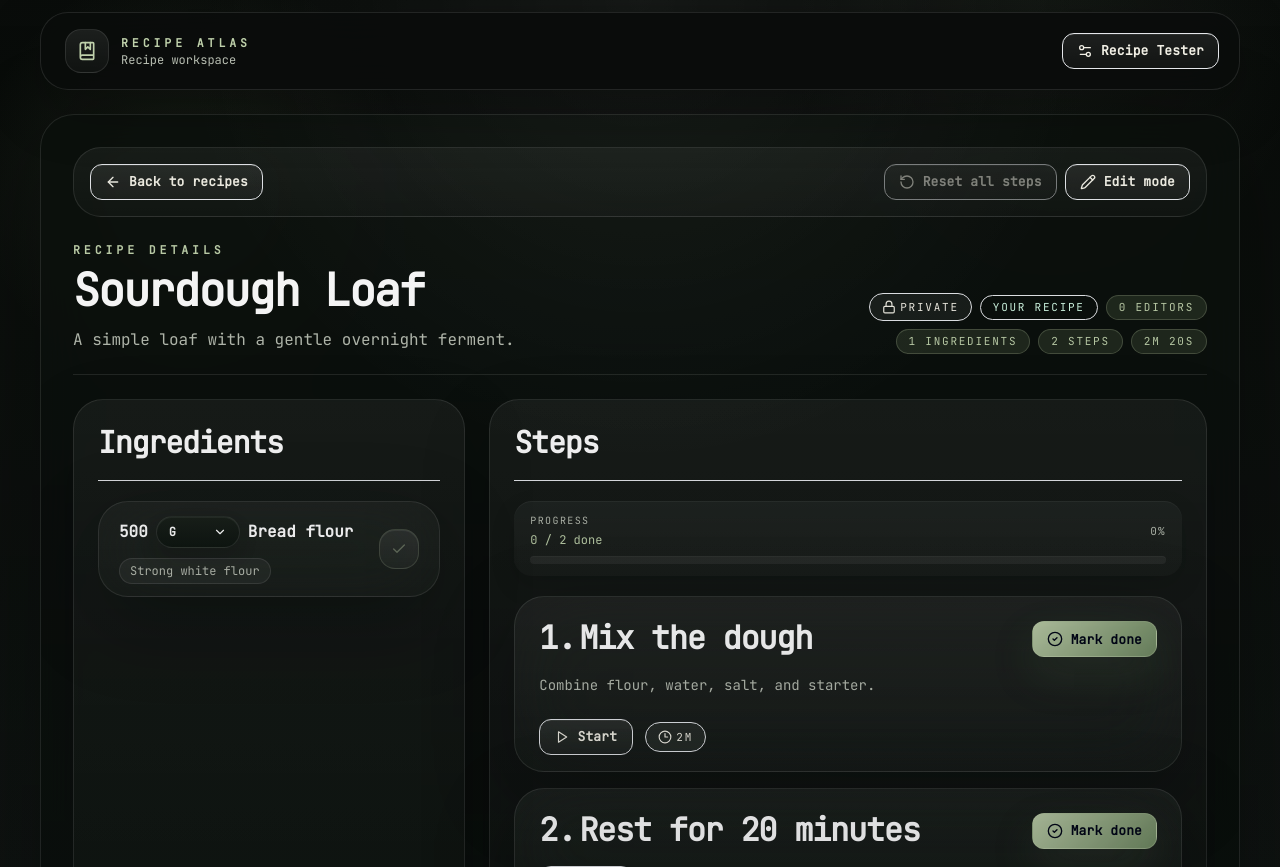
Test: RecipeDetailPage › shows steps and records completion
This screenshot has width=1280, height=867.
Expected: the heading "Sourdough Loaf" is shown, [73,260,424,319]
Expected: the text "Bread flour" is shown, [248,516,353,548]
Click the button "Mark done" in the row of "Mix the dough". click: (1094, 639)
box: [1032,621,1157,657]
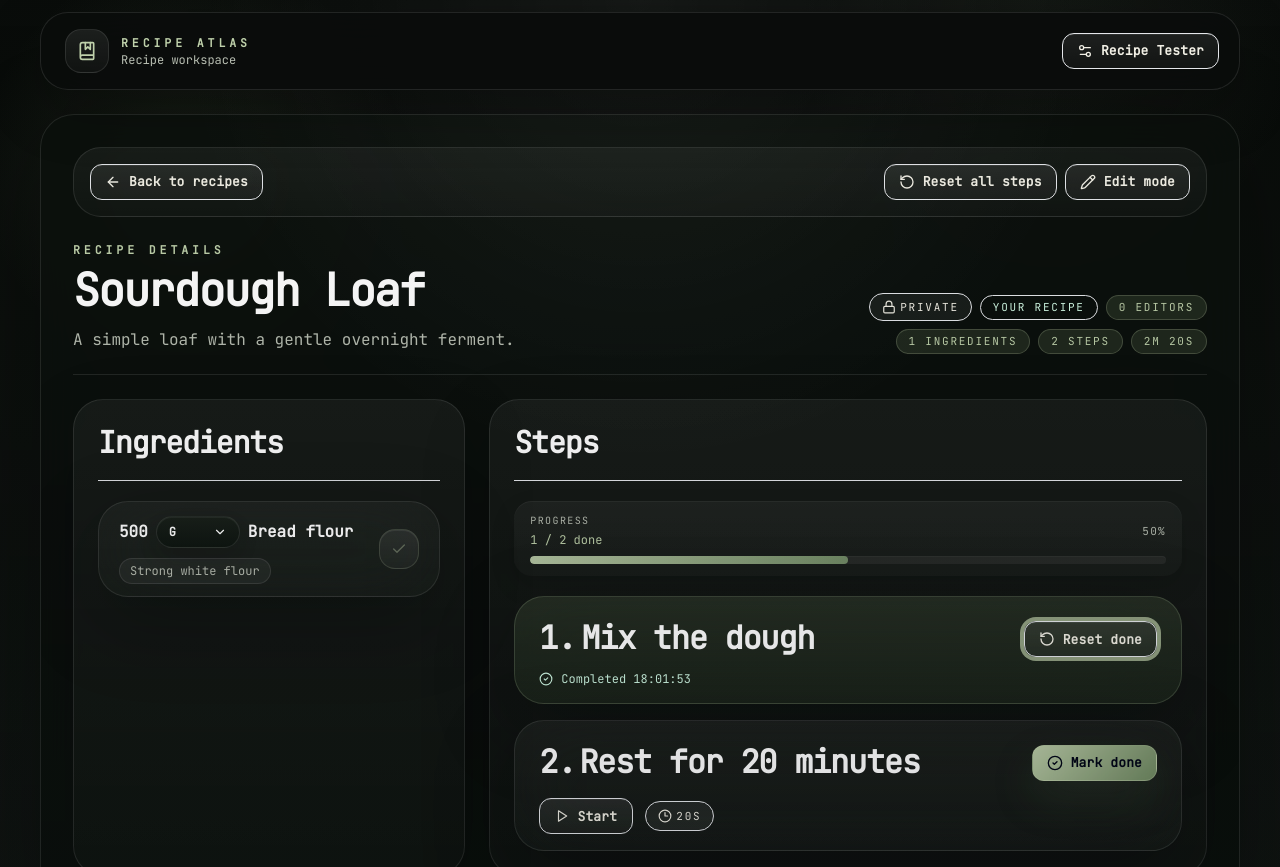
Now the text "Completed 18:01:53" is shown, box [539,671,691,687]
